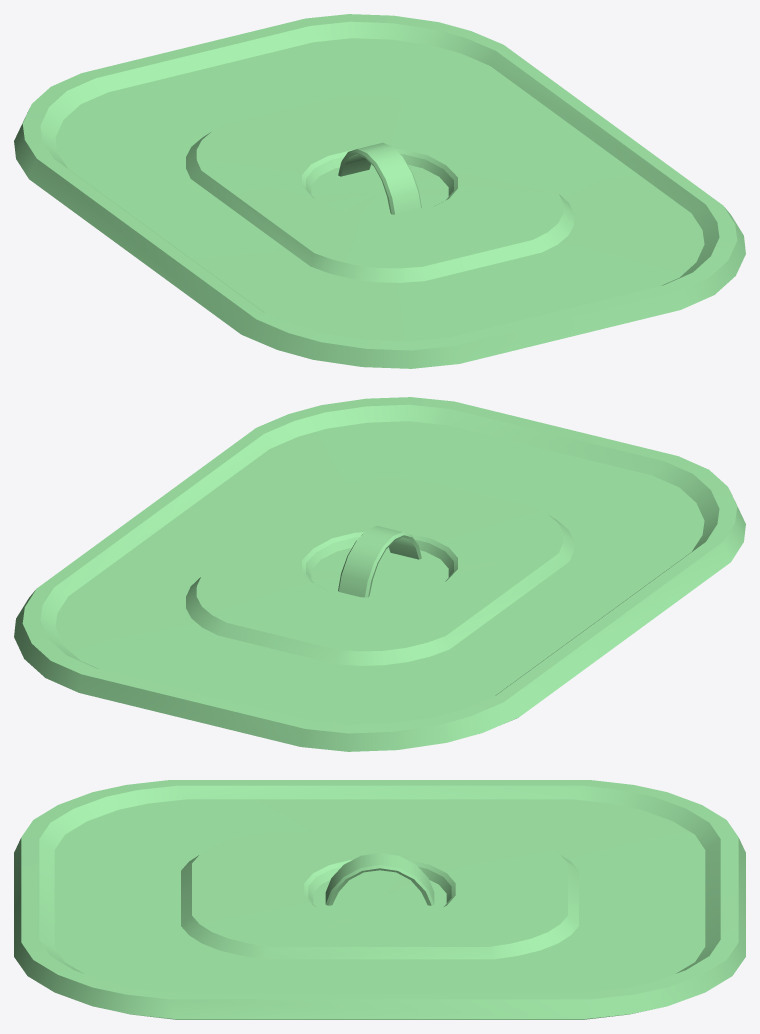
File: Surgical_tray_p2.fbx
The picture shows the model from 3 angles, top to bottom: view 1: azimuth 30°, elevation 25°; view 2: azimuth 150°, elevation 25°; view 3: azimuth 270°, elevation 25°; orthographic projection. The views are drawn at different scales.
Parts seen in each view (by area): view 1: surgical_tray_p2; view 2: surgical_tray_p2; view 3: surgical_tray_p2.
Part boxes in pixels (x1=…): surgical_tray_p2: x1=14, y1=14, x2=745, y2=368; surgical_tray_p2: x1=14, y1=397, x2=745, y2=751; surgical_tray_p2: x1=14, y1=780, x2=745, y2=1019.
Size of the model in its own units: 0.15 by 0.0148 by 0.2016.
